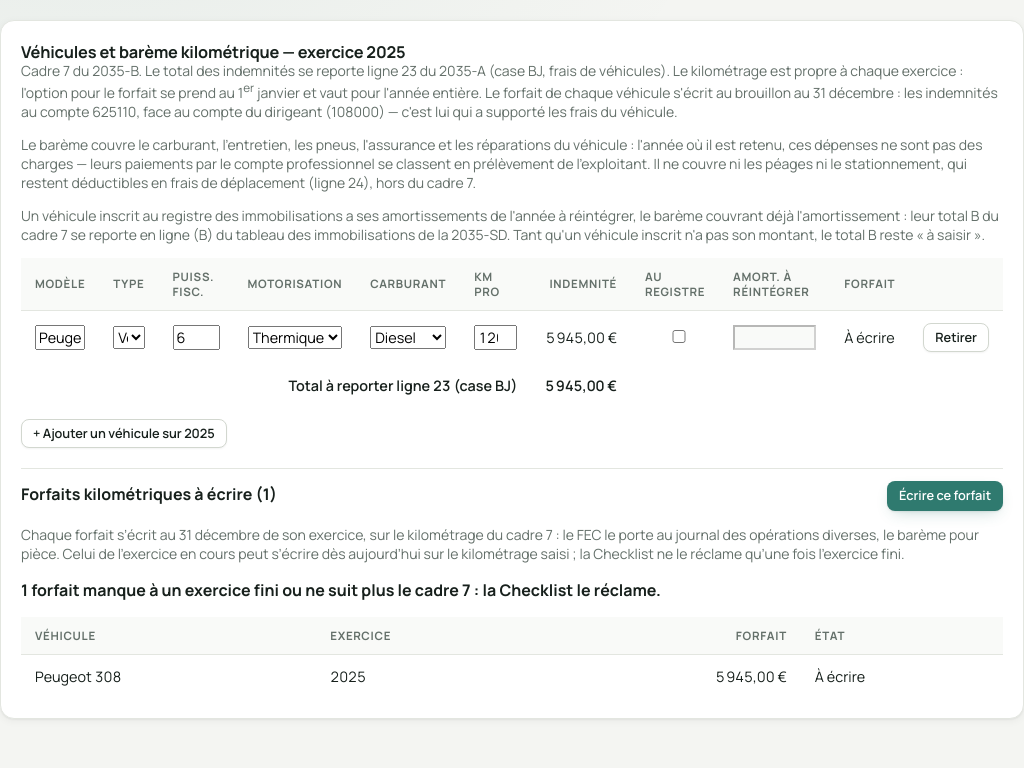
Test case: retirer un véhicule : ce qui part se dit AVANT de partir › dit le refus de la base
Click the button "Retirer" at point(956, 337), box [923,323,989,352]
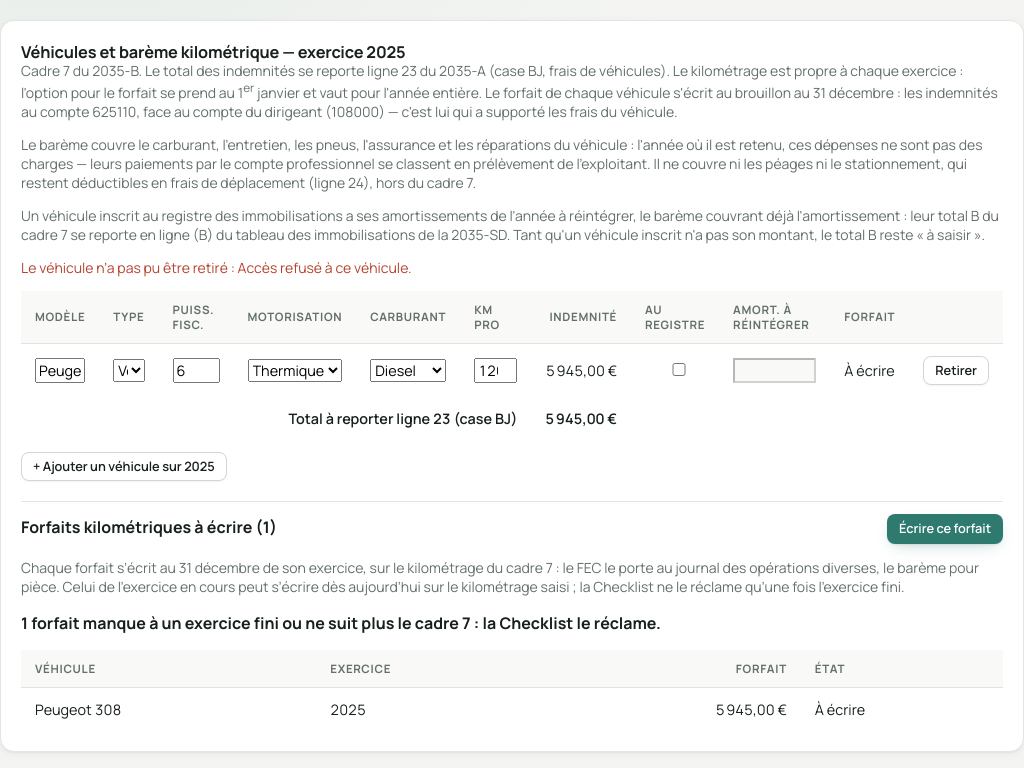
Now the text "Le véhicule n’a pas pu être retiré : Accès refusé à ce véhicule." is shown, box [21,258,412,277]
